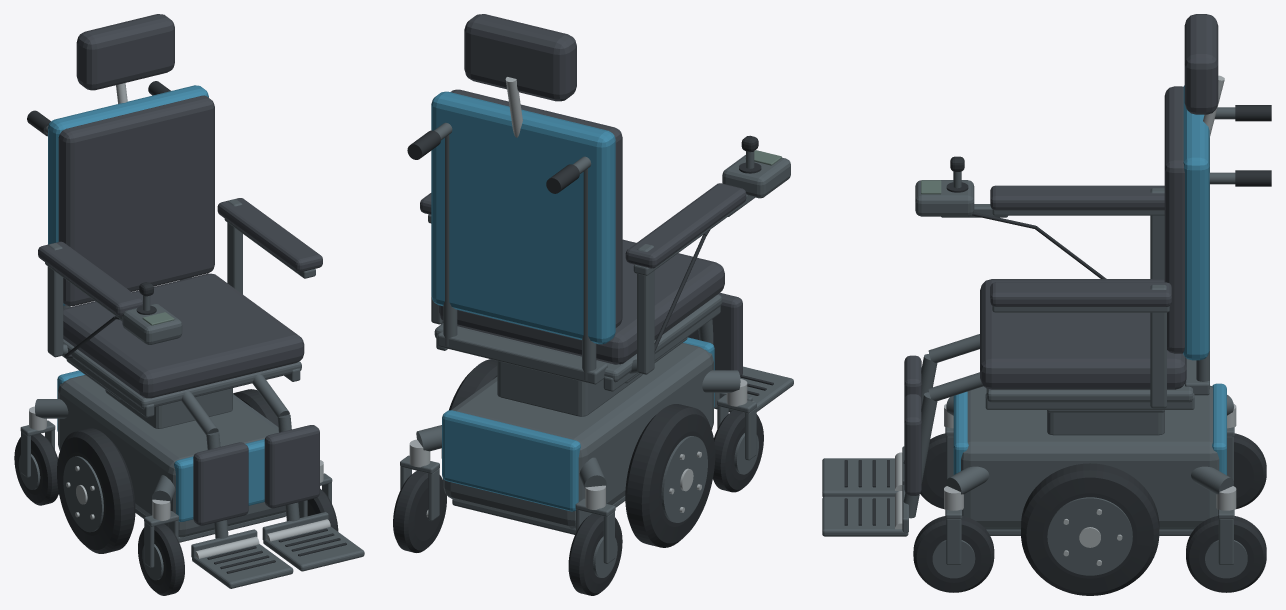
3 renders of one model, left to right at view 1: azimuth 30°, elevation 25°; view 2: azimuth 150°, elevation 25°; view 3: azimuth 270°, elevation 25°, orthographic. The views are drawn at different scales.
Parts seen in each view (by area): view 1: Back cushion, Complete seat cushion, Enclosed motor battery chassis, Head support pad, Drive tire L, Calf support R, Calf support L, Back shell, Armrest cushion R, Armrest cushion L, Seat pan, Footplate L (+21 smaller); view 2: Back shell, Enclosed motor battery chassis, Blue rear battery shroud, Complete seat cushion, Head support pad, Drive tire L, Seat support pedestal, Armrest cushion L, Back lower cross mount, Caster tire R rear, Drive hub L, Caster tire L rear (+24 smaller); view 3: Enclosed motor battery chassis, Complete seat cushion, Drive tire R, Back shell, Back cushion, Drive hub R, Armrest cushion L, Armrest cushion R, Caster tire R front, Caster tire R rear, Head support pad, Seat support pedestal (+26 smaller).
Part boxes in pixels (bbox=[...]): Back cushion: bbox=[58, 95, 214, 306]; Complete seat cushion: bbox=[63, 273, 304, 398]; Enclosed motor battery chassis: bbox=[58, 375, 285, 537]; Head support pad: bbox=[76, 14, 174, 90]; Drive tire L: bbox=[57, 428, 135, 553]; Calf support R: bbox=[264, 425, 319, 508]; Calf support L: bbox=[193, 442, 248, 525]; Back shell: bbox=[48, 85, 208, 305]; Armrest cushion R: bbox=[217, 198, 322, 272]; Armrest cushion L: bbox=[38, 241, 142, 315]; Seat pan: bbox=[63, 339, 301, 409]; Footplate L: bbox=[192, 544, 293, 588]; Back shell: bbox=[431, 91, 615, 344]; Enclosed motor battery chassis: bbox=[443, 343, 713, 528]; Blue rear battery shroud: bbox=[442, 410, 580, 511]; Complete seat cushion: bbox=[439, 239, 724, 364]; Head support pad: bbox=[464, 14, 576, 101]; Drive tire L: bbox=[625, 404, 715, 547]; Seat support pedestal: bbox=[497, 361, 642, 416]; Armrest cushion L: bbox=[625, 183, 746, 268]; Back lower cross mount: bbox=[437, 327, 607, 384]; Caster tire R rear: bbox=[393, 470, 446, 552]; Drive hub L: bbox=[661, 436, 707, 522]; Caster tire L rear: bbox=[568, 513, 622, 595]; Enclosed motor battery chassis: bbox=[961, 385, 1219, 529]; Complete seat cushion: bbox=[980, 279, 1186, 389]; Drive tire R: bbox=[1021, 463, 1159, 595]; Back shell: bbox=[1183, 85, 1209, 360]; Back cushion: bbox=[1164, 86, 1184, 353]; Drive hub R: bbox=[1047, 497, 1132, 575]; Armrest cushion L: bbox=[990, 185, 1164, 210]; Armrest cushion R: bbox=[990, 282, 1171, 306]; Caster tire R front: bbox=[913, 516, 994, 592]; Caster tire R rear: bbox=[1186, 516, 1266, 592]; Head support pad: bbox=[1184, 14, 1218, 114]; Seat support pedestal: bbox=[1047, 411, 1164, 435].
Bounding box in the file's own units: 0.594 × 1.25 × 0.99.
